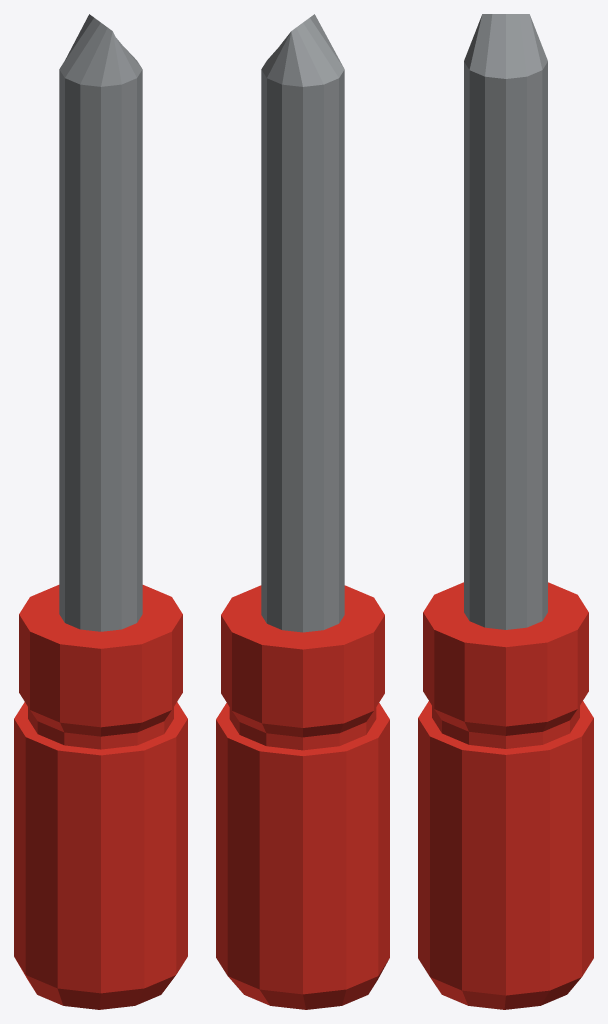
File: screwdriver.fbx
The picture shows the model from 3 angles, left to right: view 1: azimuth 30°, elevation 25°; view 2: azimuth 150°, elevation 25°; view 3: azimuth 270°, elevation 25°; orthographic projection.
Parts seen in each view (by area): view 1: Screwdriver; view 2: Screwdriver; view 3: Screwdriver.
Part boxes in pixels (x1,y1,x2,y2): Screwdriver: (14, 14, 187, 1009); Screwdriver: (216, 14, 389, 1009); Screwdriver: (418, 14, 593, 1009).
Bounding box in the file's own units: 5.75 × 34.91 × 5.75.
1 material, 1 textured.
